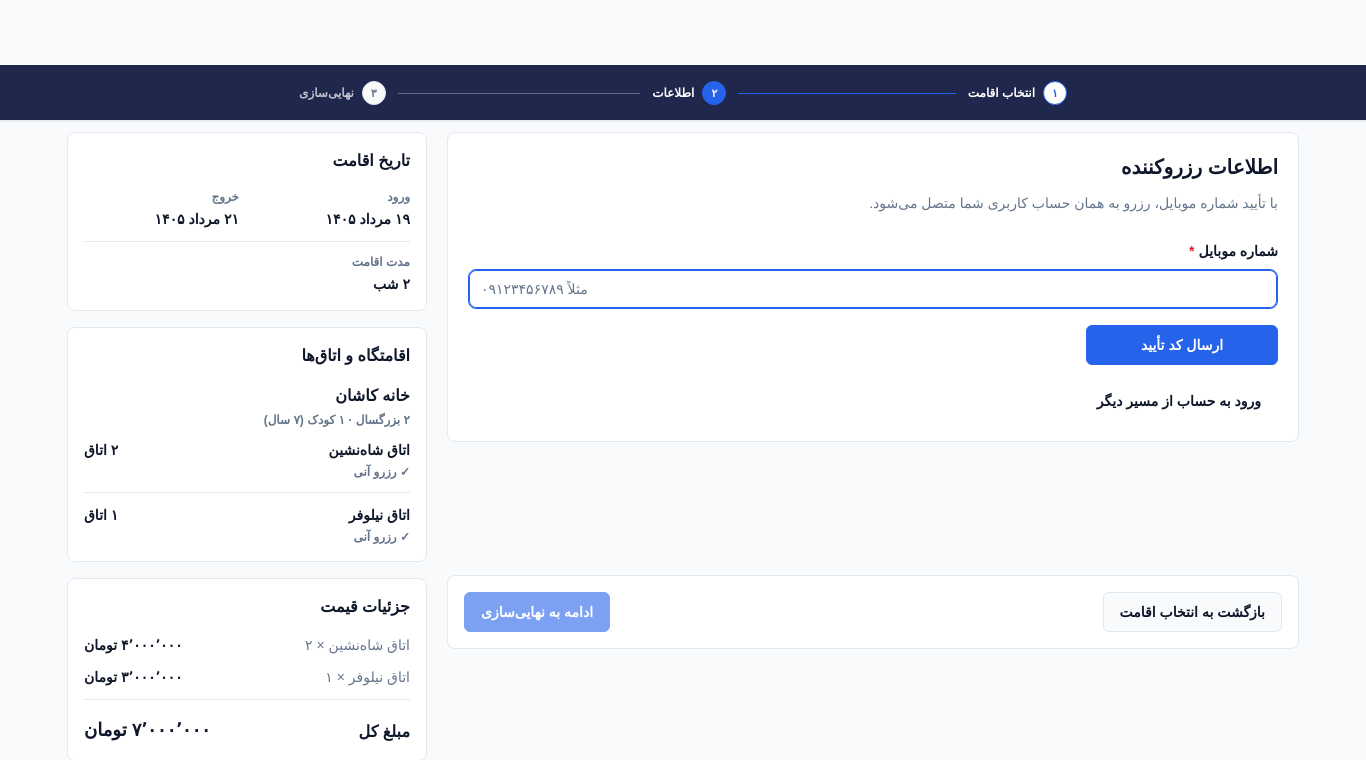
Scenario: multi-step booking checkout skeleton › sends OTP for an existing user, reflects cooldown, and stays in checkout after verification
Type "۰۹۱۲۱۲۳۴۵۶۷" into the field labelled "شماره موبایل*" at (873, 289), box [468,269,1278,309]
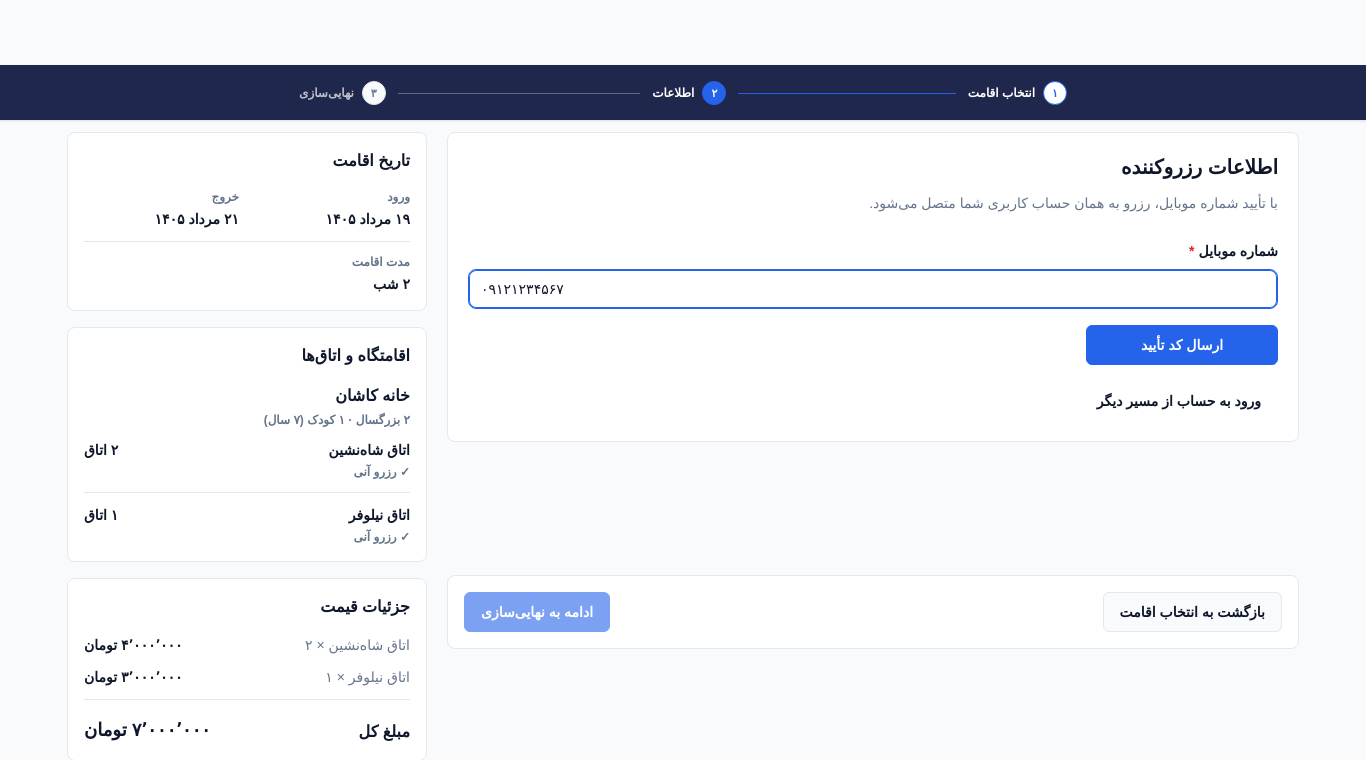
Click the button "ارسال کد تأیید" at (1182, 345), box [1086,325,1278,365]
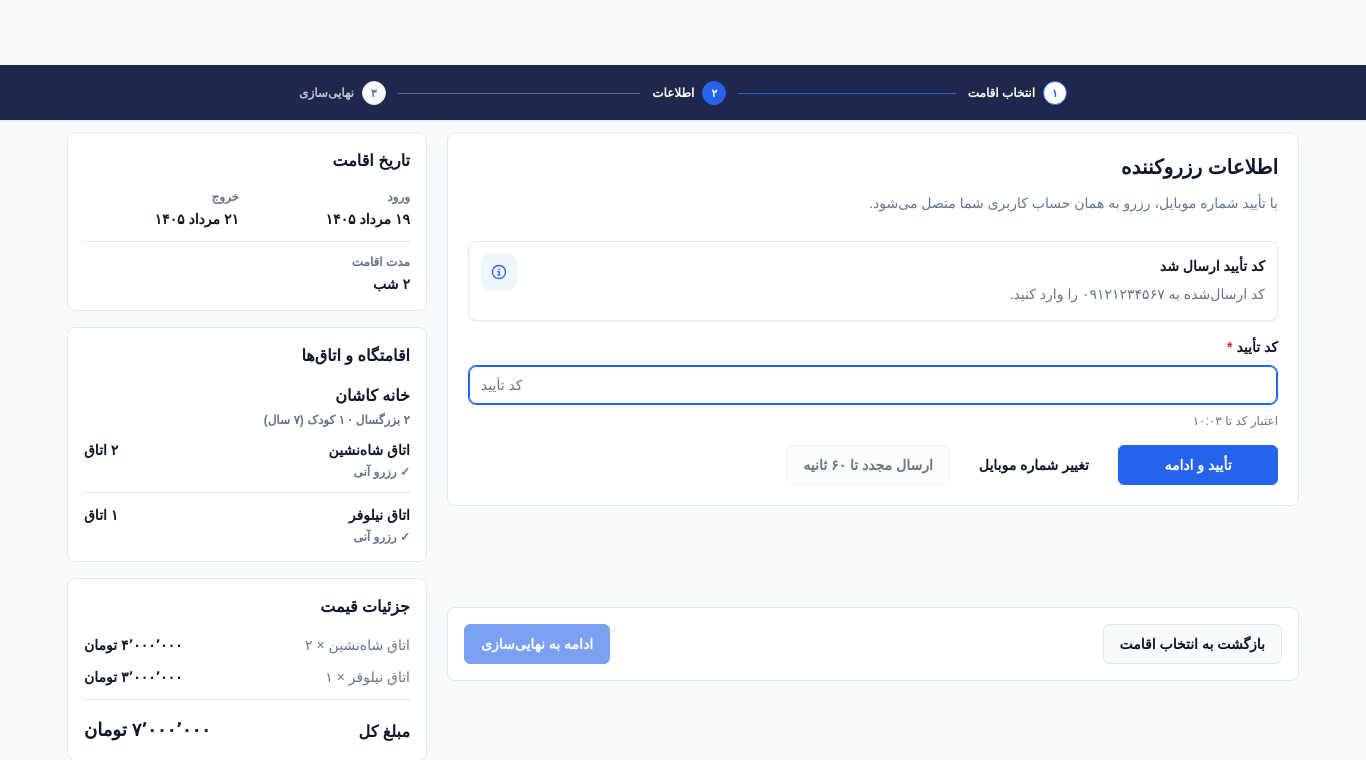
expect the field labelled "کد تأیید*" is shown: met
expect the button "ارسال مجدد تا ۶۰ ثانیه" is disabled: met, box [786,445,950,485]
Type "۱۲۳۴۵۶" into the field labelled "کد تأیید*" at (873, 385), box [468,365,1278,405]
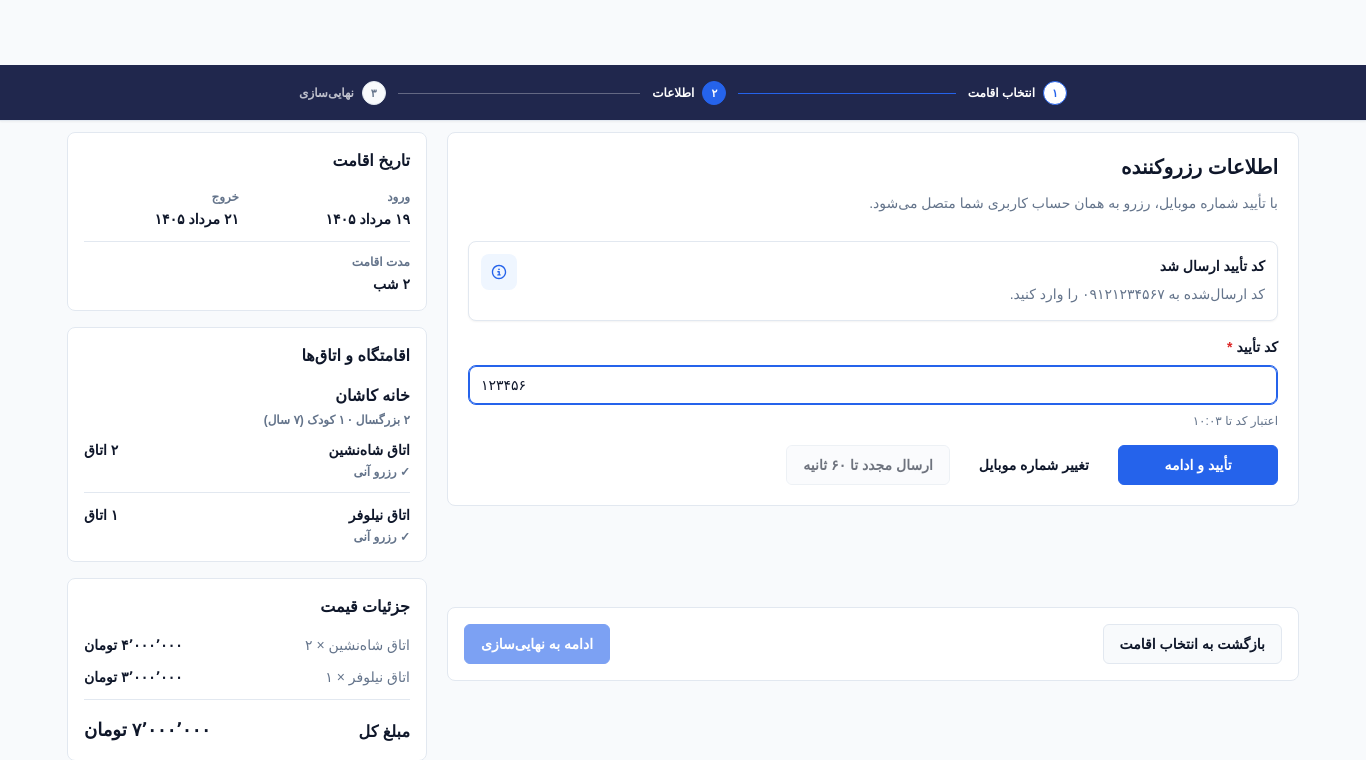
Click the button "تأیید و ادامه" at (1198, 465), box [1118,445,1278,485]
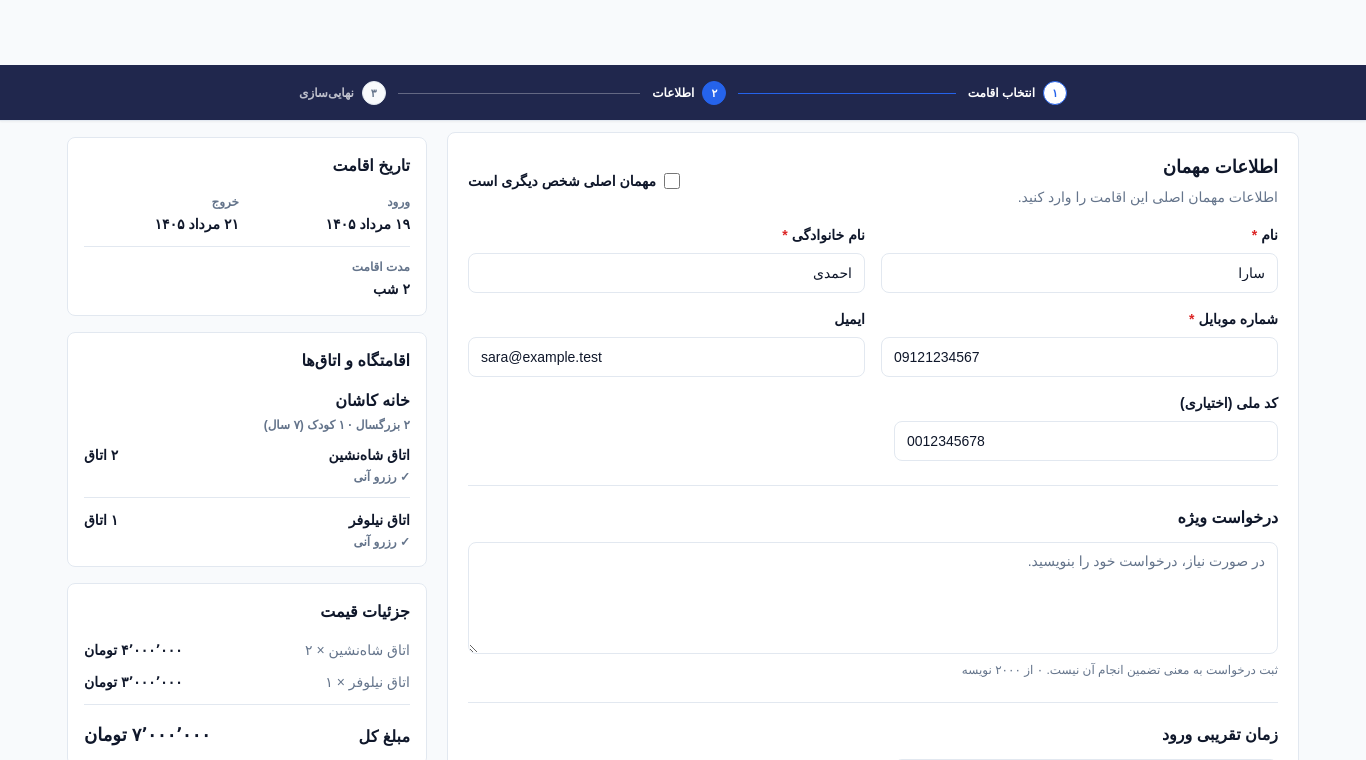
expect the field labelled "نام*" holds "سارا": met, box [881,253,1278,293]
